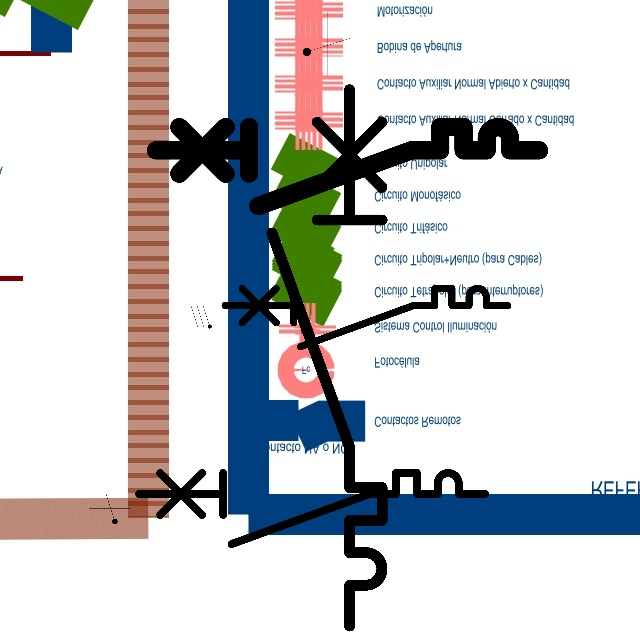interruptor_termomagnetico: (258, 75, 396, 639), (146, 117, 549, 215), (130, 464, 494, 553), (217, 281, 515, 354)
